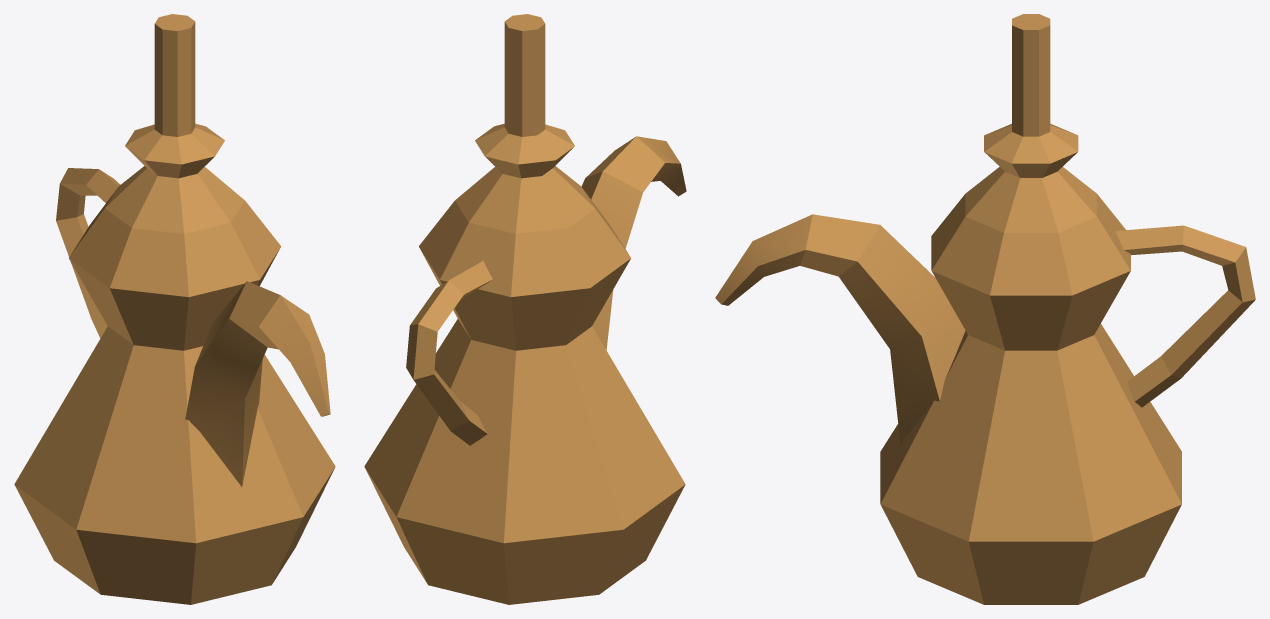
File: SM_Prop_Gold_Teapot_05.fbx
3 renders of one model, left to right at view 1: azimuth 30°, elevation 25°; view 2: azimuth 150°, elevation 25°; view 3: azimuth 270°, elevation 25°, orthographic.
Parts seen in each view (by area): view 1: SM_Prop_Gold_Teapot_05; view 2: SM_Prop_Gold_Teapot_05; view 3: SM_Prop_Gold_Teapot_05.
Part boxes in pixels (left/top/right/bottom): SM_Prop_Gold_Teapot_05: left=14, top=14, right=335, bottom=604; SM_Prop_Gold_Teapot_05: left=364, top=14, right=686, bottom=604; SM_Prop_Gold_Teapot_05: left=715, top=14, right=1255, bottom=604.
Size of the model in its own units: 36.81 by 72.06 by 66.03.
